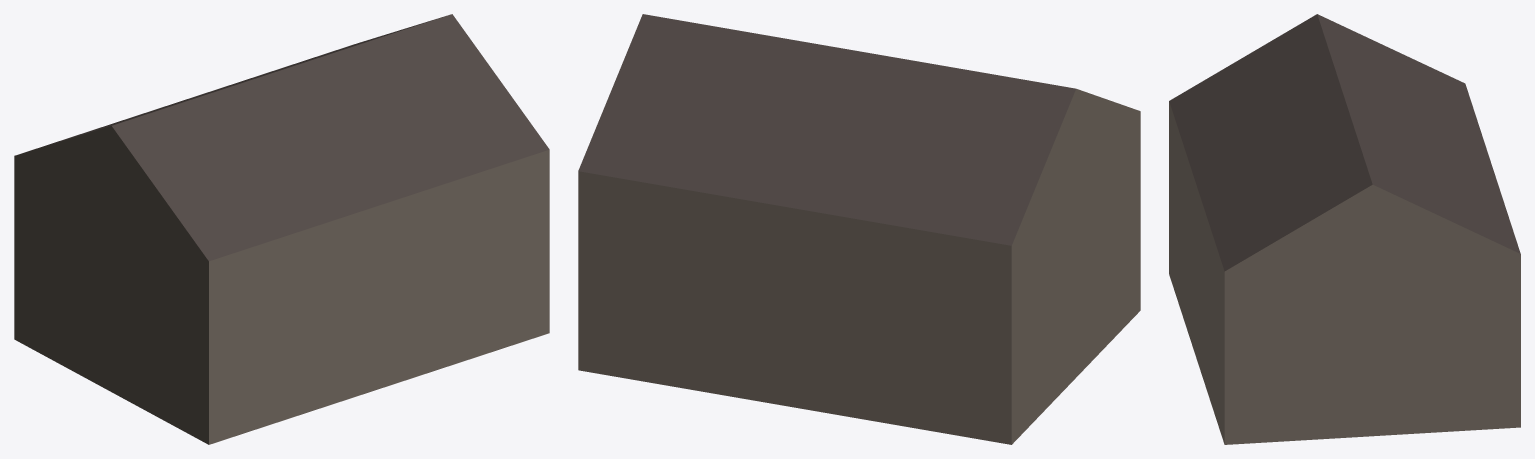
The picture shows the model from 3 angles, left to right: view 1: azimuth 30°, elevation 25°; view 2: azimuth 150°, elevation 25°; view 3: azimuth 270°, elevation 25°; orthographic projection. The views are drawn at different scales.
Visible parts, largest first — view 1: HP-w1200814969; view 2: HP-w1200814969; view 3: HP-w1200814969.
Part boxes in pixels (x1,y1,x2,y2): HP-w1200814969: [14, 14, 549, 444]; HP-w1200814969: [578, 14, 1140, 444]; HP-w1200814969: [1169, 14, 1520, 444].
Bounding box in the file's own units: 13.96 × 8.71 × 11.03.
